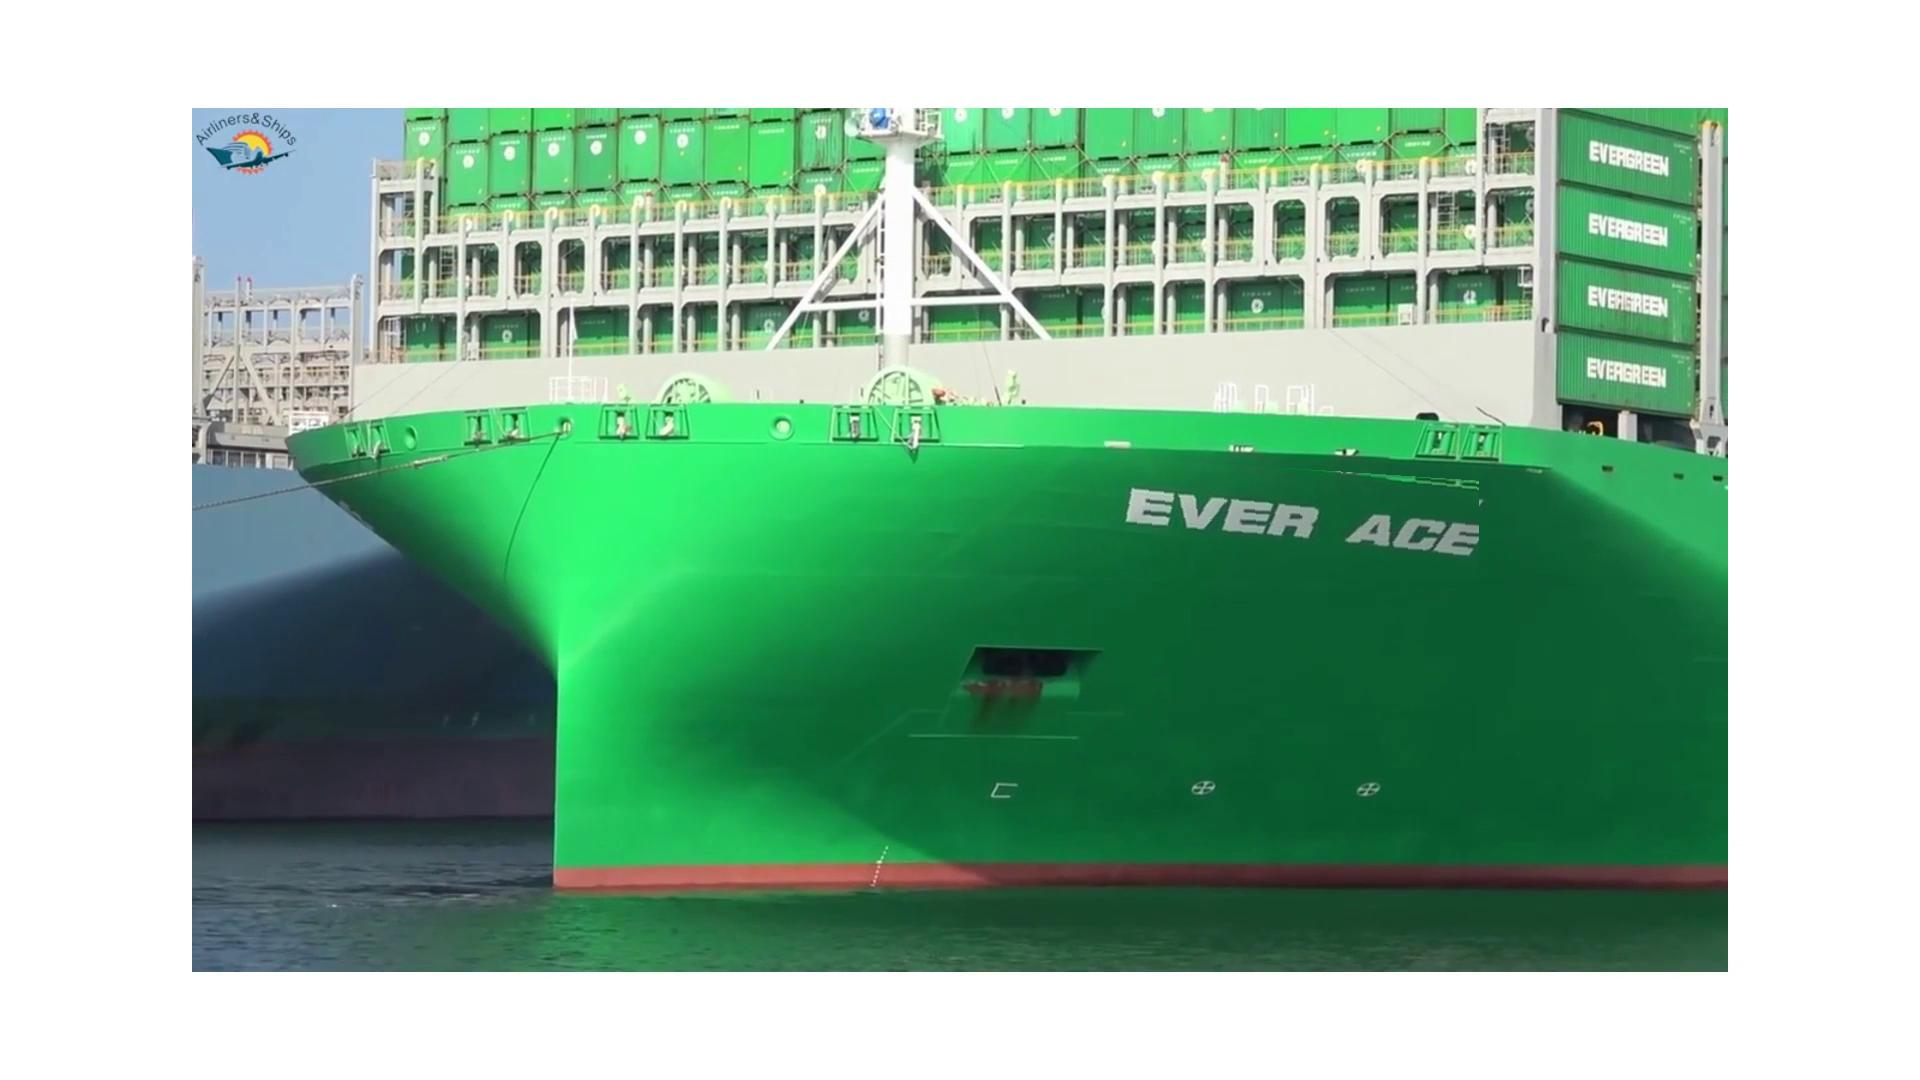OCR: (1077, 454, 1480, 582)
